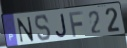2: (104, 7, 122, 35), (88, 10, 102, 35)
F: (68, 10, 84, 38)
J: (55, 13, 68, 39)
N: (16, 16, 35, 44)
S: (34, 14, 53, 43)
